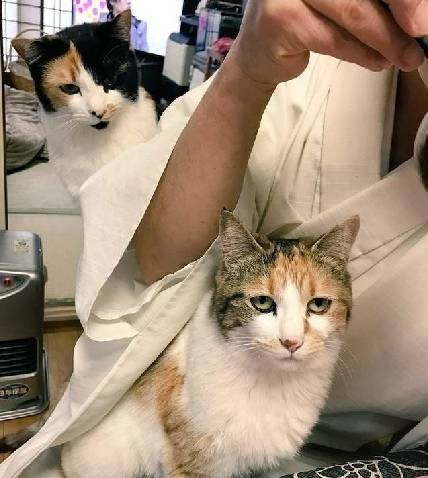cat: (60, 208, 361, 478), (11, 8, 189, 200)
